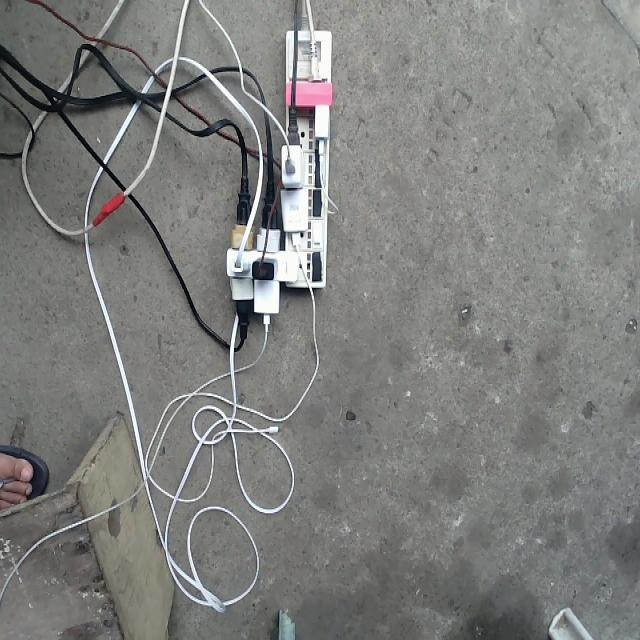-: (224, 27, 328, 328)
